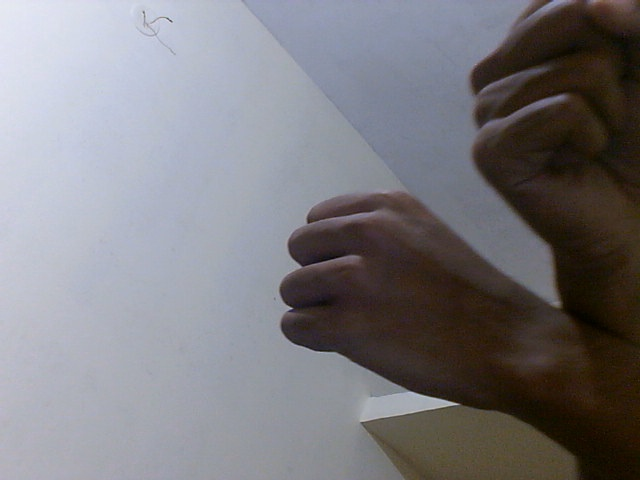hand: (274, 188, 562, 420), (468, 1, 640, 296)
